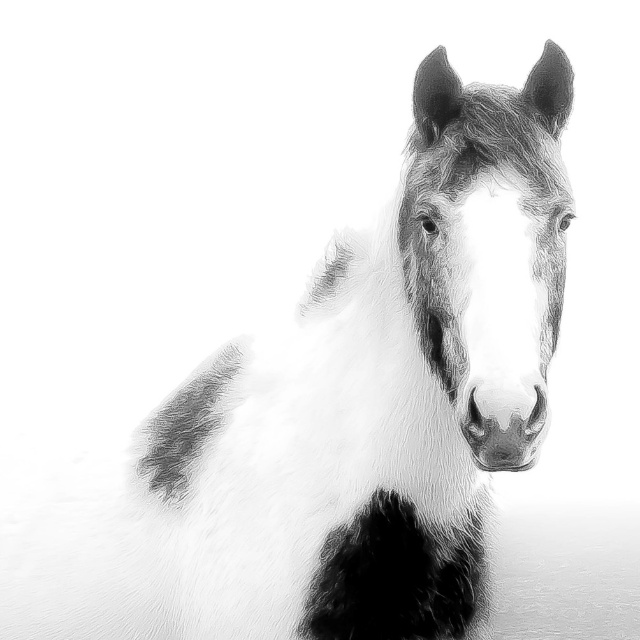Horse: (0, 35, 579, 640)
